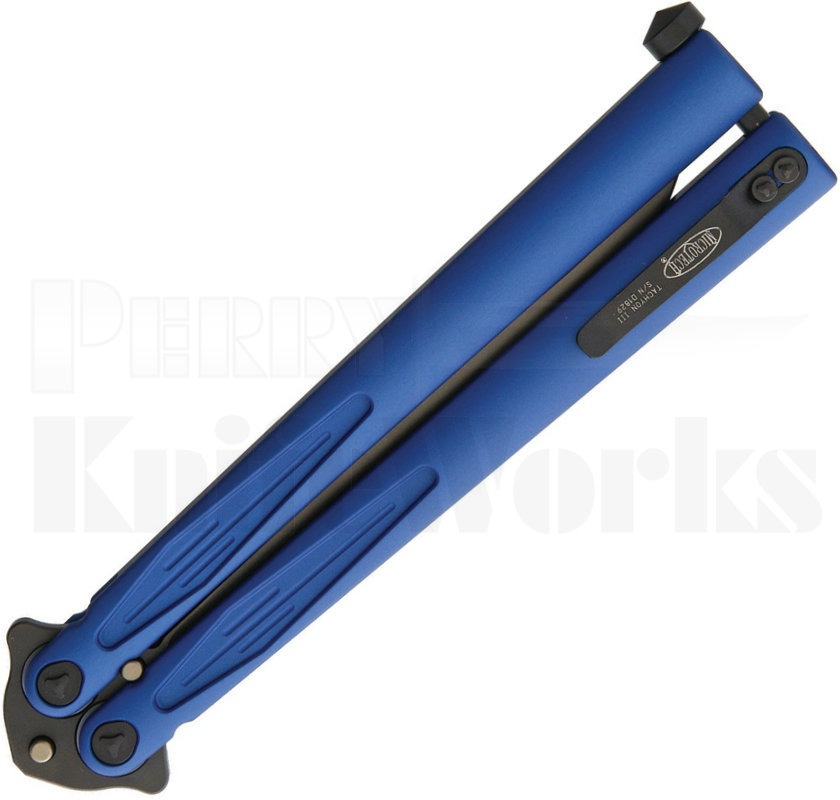knife: (0, 0, 839, 793)
